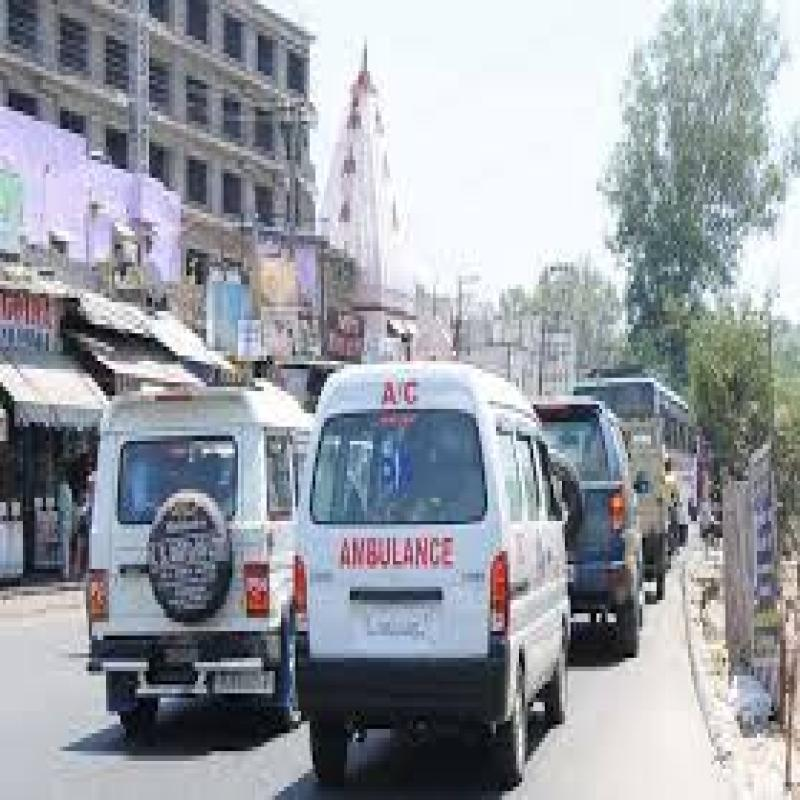ambulance: (292, 416, 521, 766)
